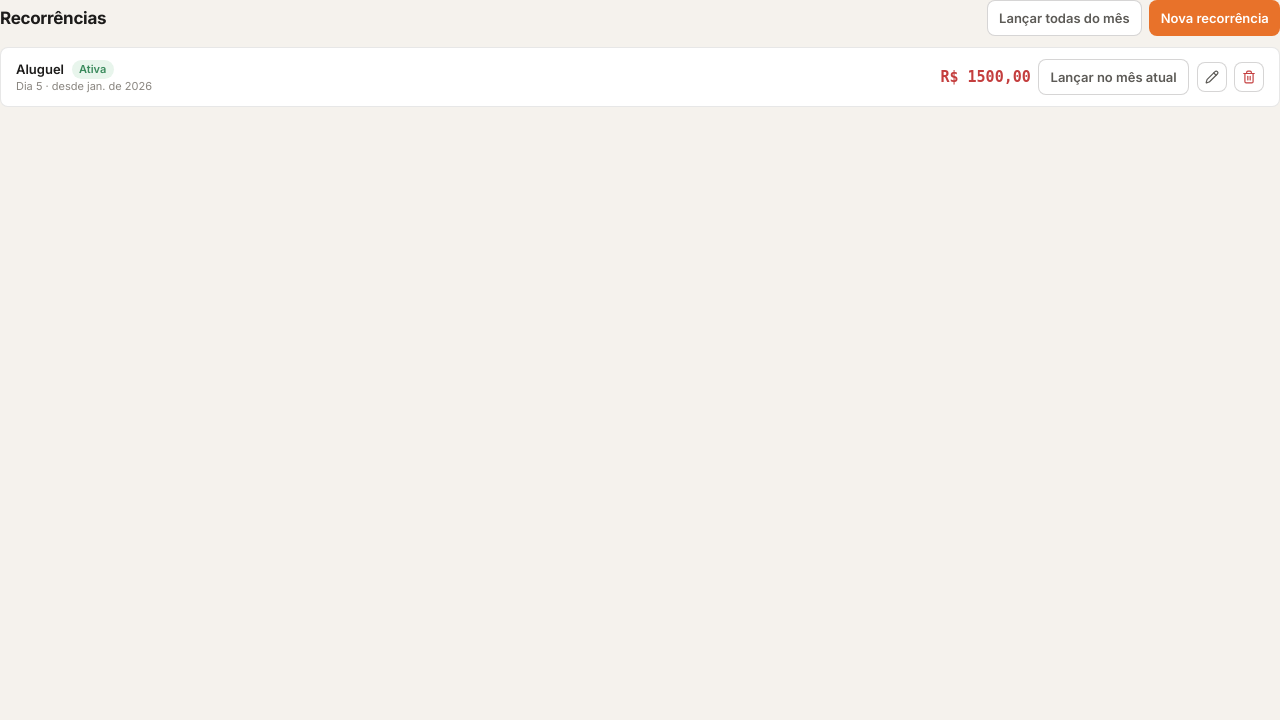
Test: FinanceRecurrenceSection › offers an archived placeholder when editing a recurrence with unknown category
Click the button named "Editar recorrência Aluguel" at (1212, 77), box 1196,62 -> 1226,92
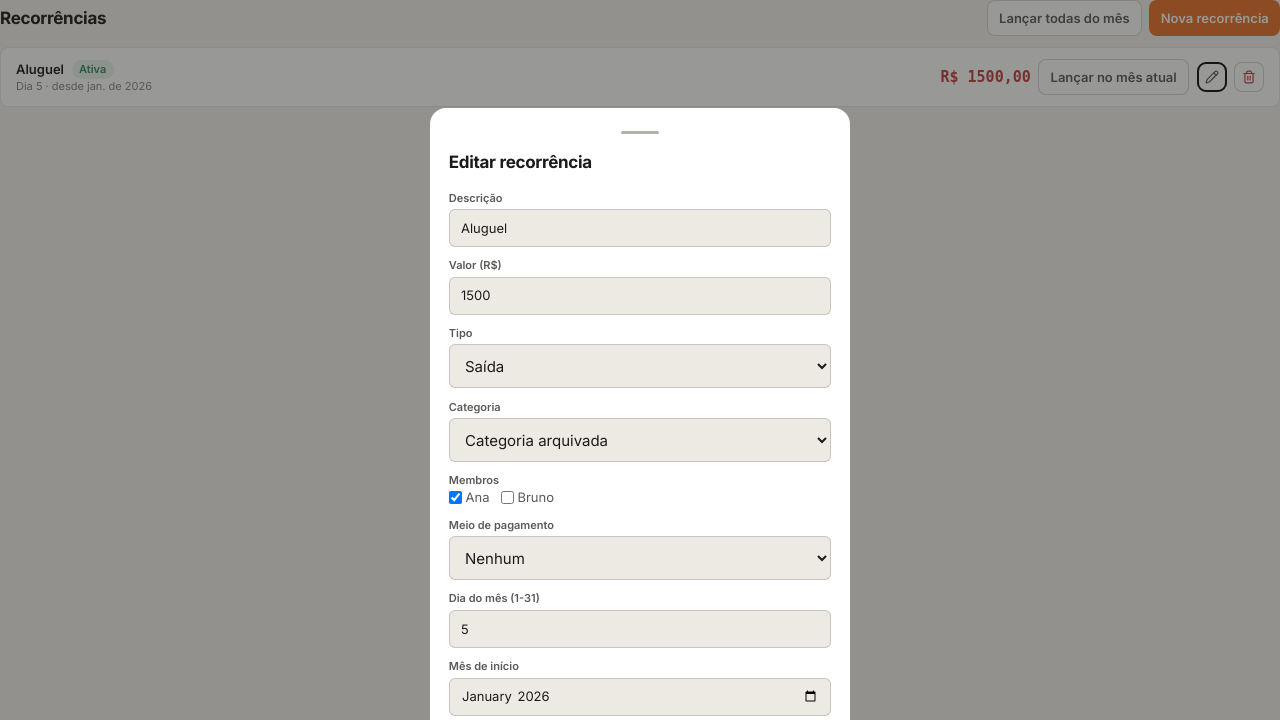
Expected: the dropdown labelled "Categoria" shows "Categoria arquivada", 449,418 -> 831,462
